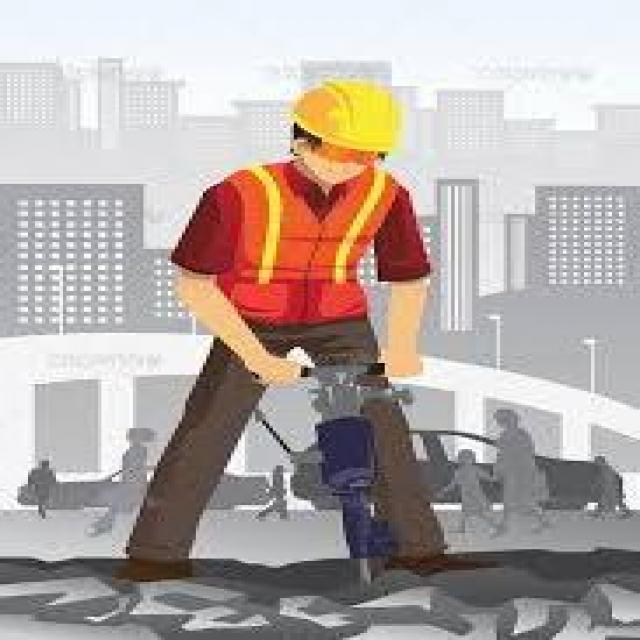Reflective-Jacket: (164, 156, 427, 351)
Safety-Helmet: (262, 68, 434, 165)
